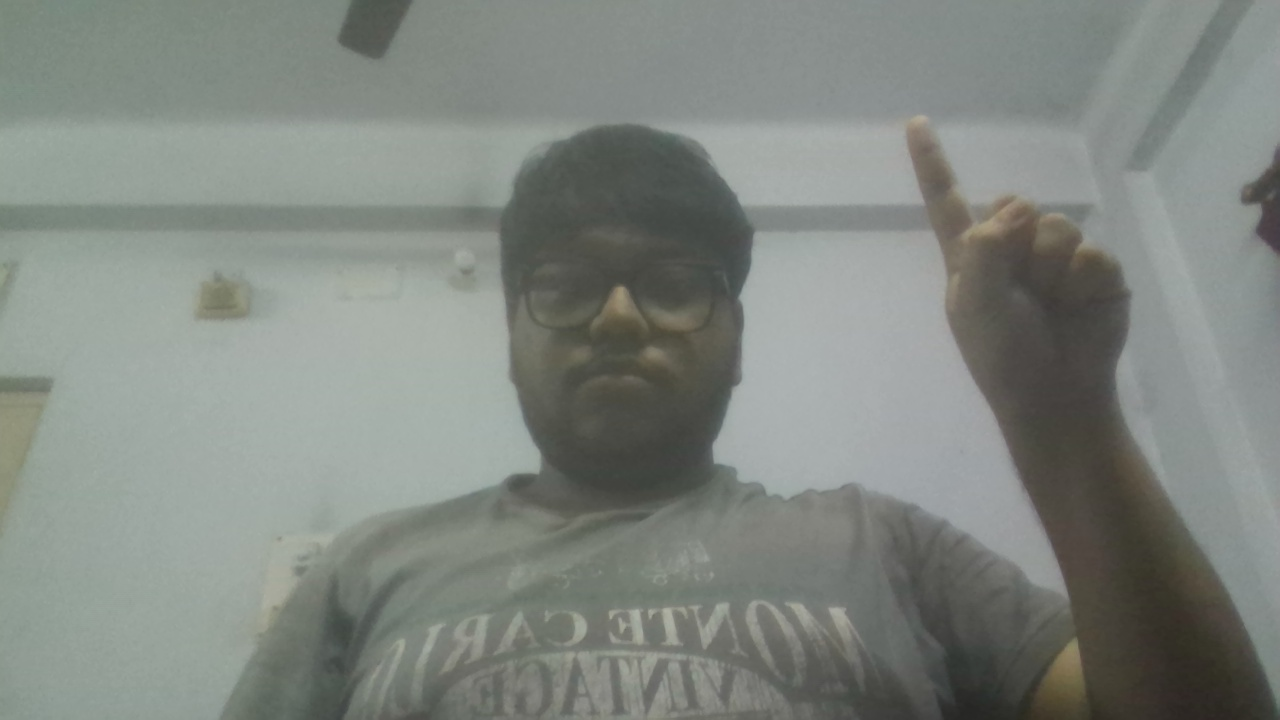Gesture1: (893, 102, 1153, 439)
